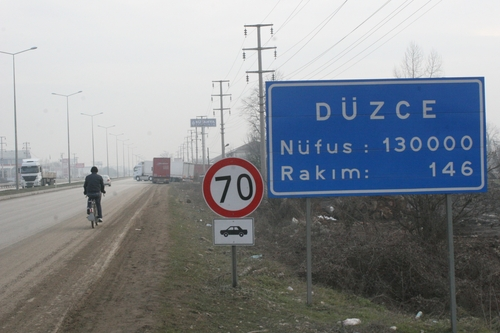70 Km Hiz Siniri: (200, 157, 265, 218)
